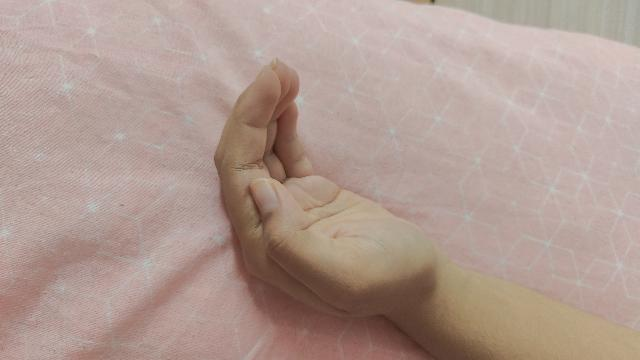sarpsheesh: (215, 61, 640, 360)
